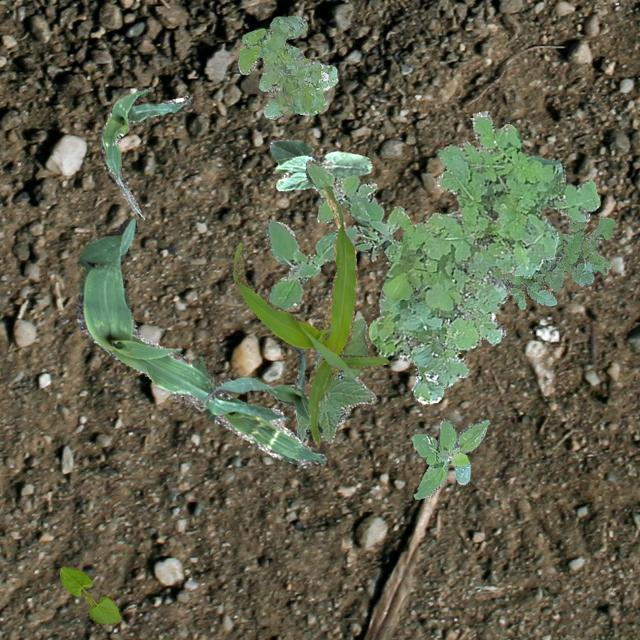crop: (74, 217, 326, 463), (232, 185, 388, 442), (100, 86, 192, 215), (202, 344, 322, 434), (294, 318, 376, 442), (268, 137, 372, 190), (59, 566, 120, 624)
weed: (368, 110, 598, 402), (263, 158, 403, 310), (490, 215, 614, 308), (236, 15, 336, 119), (409, 418, 488, 498), (455, 348, 465, 358)
